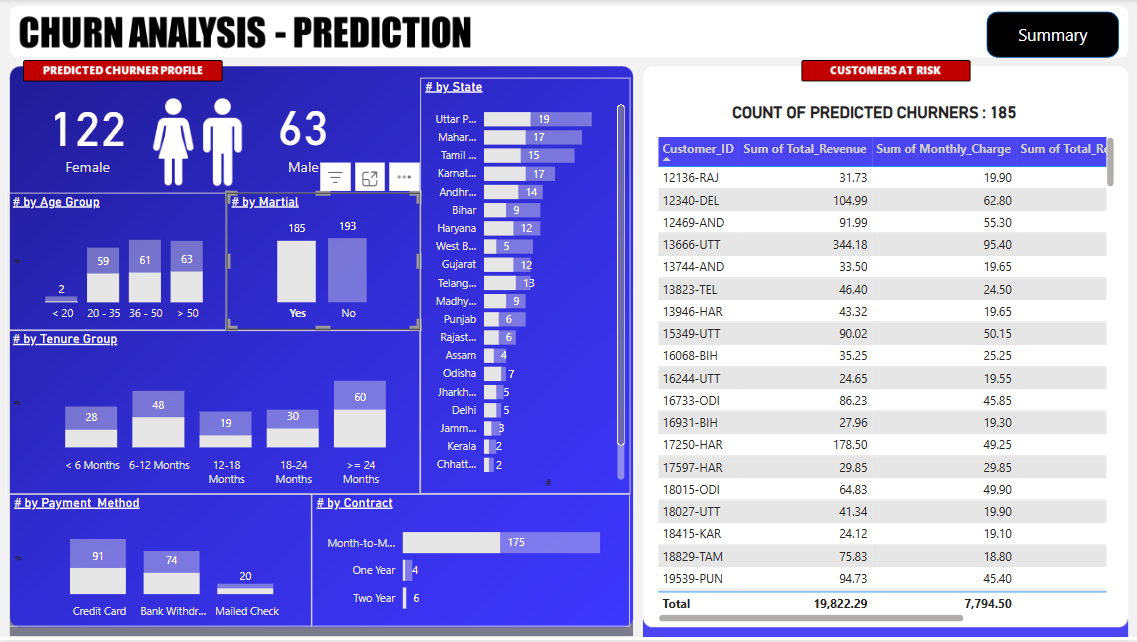

This screenshot's page, from the dashboard's own definition file:
{"tool":"powerbi","page":{"name":"Churn Prediction","canvas":[1280,720],"ordinal":2},"visuals":[{"type":"tableEx","fields":{"Values":["Predictions.Customer_ID","Sum(Predictions.Total_Revenue)","Sum(Predictions.Monthly_Charge)","Sum(Predictions.Total_Refunds)","Sum(Predictions.Number_of_Referrals)"]},"box":[734.2,150.2,523.6,554.5],"z":0},{"type":"card","fields":{"Values":["tbl_measures.Title Predicted Churners"]},"box":[708.9,105.3,548.9,44.9],"z":1000},{"type":"card","fields":{"Values":["tbl_measures.Count Predicted Churner"]},"box":[18.2,88.4,162.8,123.5],"z":1001},{"type":"card","fields":{"Values":["tbl_measures.Count Predicted Churner"]},"box":[255.5,92.7,172.7,113.7],"z":1002},{"type":"clusteredColumnChart","fields":{"Category":["mapping_AgeGrp.Age Group "],"Y":["CountNonNull(Predictions.Customer_ID)"]},"box":[9.8,217.6,245.7,154.4],"z":1003},{"type":"clusteredColumnChart","fields":{"Category":["mapping_TenureGrp.Tenure Group "],"Y":["CountNonNull(Predictions.Customer_ID)"]},"box":[9.8,372,463.3,183.9],"z":1004},{"type":"clusteredColumnChart","fields":{"Category":["Predictions.Married"],"Y":["CountNonNull(Predictions.Customer_ID)"]},"box":[255.5,217.6,217.6,154.4],"z":1005},{"type":"clusteredColumnChart","fields":{"Category":["Predictions.Payment_Method"],"Y":["CountNonNull(Predictions.Customer_ID)"]},"box":[11.2,555.9,339.7,148.8],"z":1006},{"type":"clusteredBarChart","fields":{"Category":["Predictions.Contract"],"Y":["CountNonNull(Predictions.Customer_ID)"]},"box":[351,555.9,358,148.8],"z":1007},{"type":"clusteredBarChart","fields":{"Category":["Predictions.State"],"Y":["CountNonNull(Predictions.Customer_ID)"]},"box":[473.1,88.4,235.8,467.5],"z":1008},{"type":"image","box":[151.6,92.7,141.8,134.8],"z":1009},{"type":"shape","box":[1109,14,148.8,51.9],"z":1010}]}

Visuals, with their boxes in screenshot pixels (x1, y1, x2, y2), scaled from the page's 1280x720 canvas onto the 1137x642 screenshot:
tableEx - Predictions.Customer_ID x Sum(Predictions.Total_Revenue): (652,134,1117,628)
card - tbl_measures.Title Predicted Churners: (630,94,1117,134)
card - tbl_measures.Count Predicted Churner: (16,79,161,189)
card - tbl_measures.Count Predicted Churner: (227,83,380,184)
clusteredColumnChart - mapping_AgeGrp.Age Group  x CountNonNull(Predictions.Customer_ID): (9,194,227,332)
clusteredColumnChart - mapping_TenureGrp.Tenure Group  x CountNonNull(Predictions.Customer_ID): (9,332,420,496)
clusteredColumnChart - Predictions.Married x CountNonNull(Predictions.Customer_ID): (227,194,420,332)
clusteredColumnChart - Predictions.Payment_Method x CountNonNull(Predictions.Customer_ID): (10,496,312,628)
clusteredBarChart - Predictions.Contract x CountNonNull(Predictions.Customer_ID): (312,496,630,628)
clusteredBarChart - Predictions.State x CountNonNull(Predictions.Customer_ID): (420,79,630,496)
image: (135,83,261,203)
shape: (985,12,1117,59)
